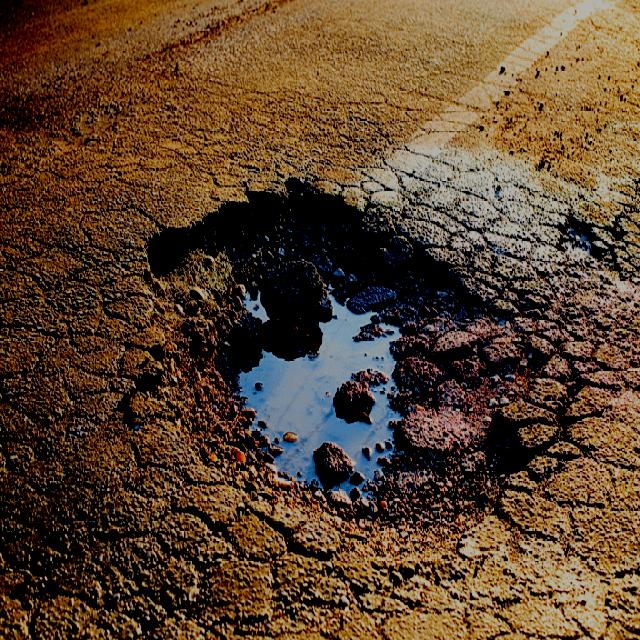Pothole: (123, 171, 536, 528)
